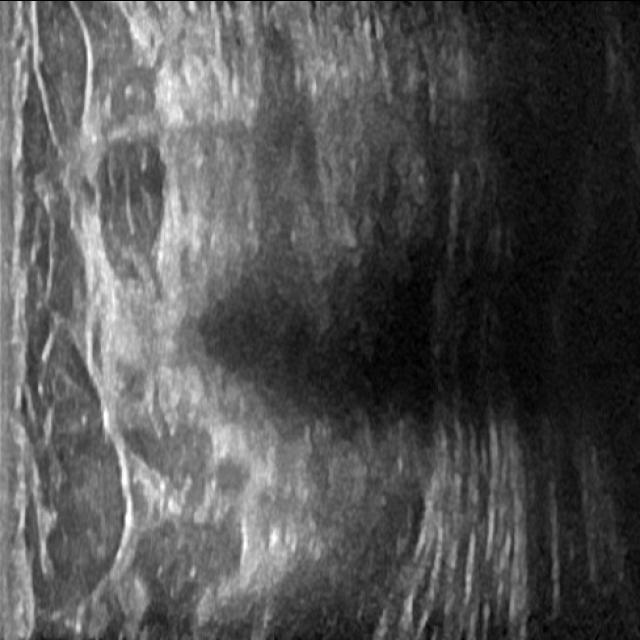Malignant: (182, 228, 418, 452)
